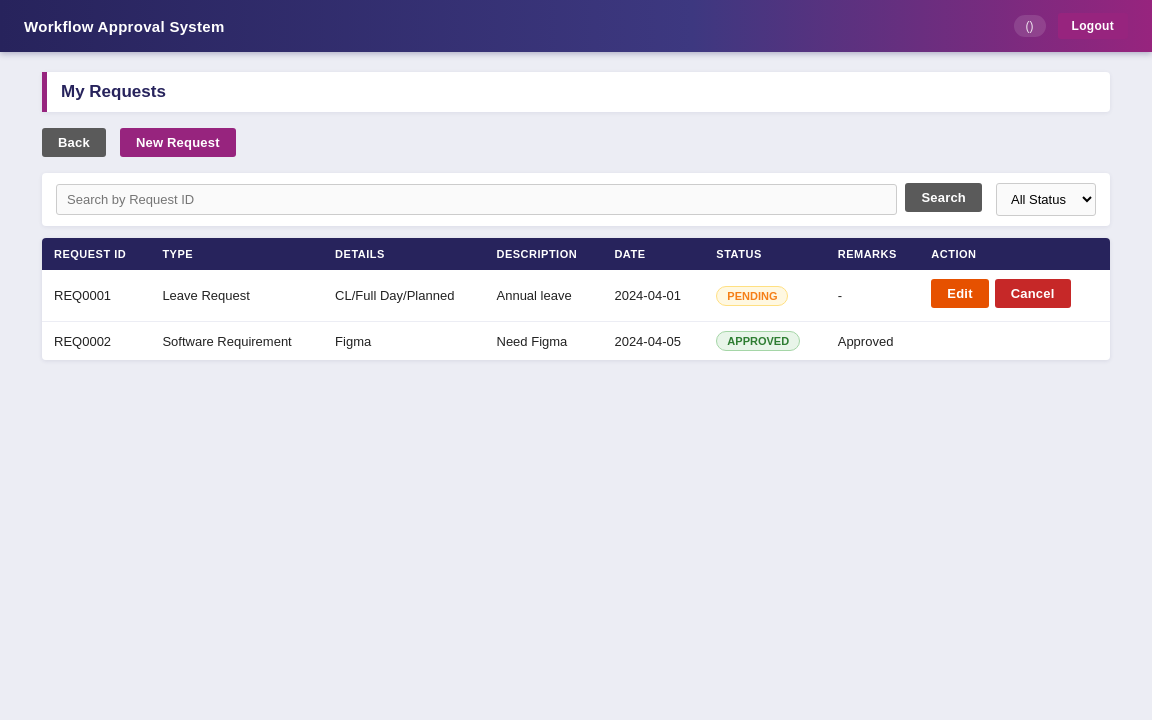
Scenario: EmployeeRequests › opens edit modal when Edit is clicked
This screenshot has width=1152, height=720.
Check: the text "REQ0001" is shown, box [42,270,150,322]
Click the button "Edit" at {"x": 960, "y": 294}, box [931,279,989,308]
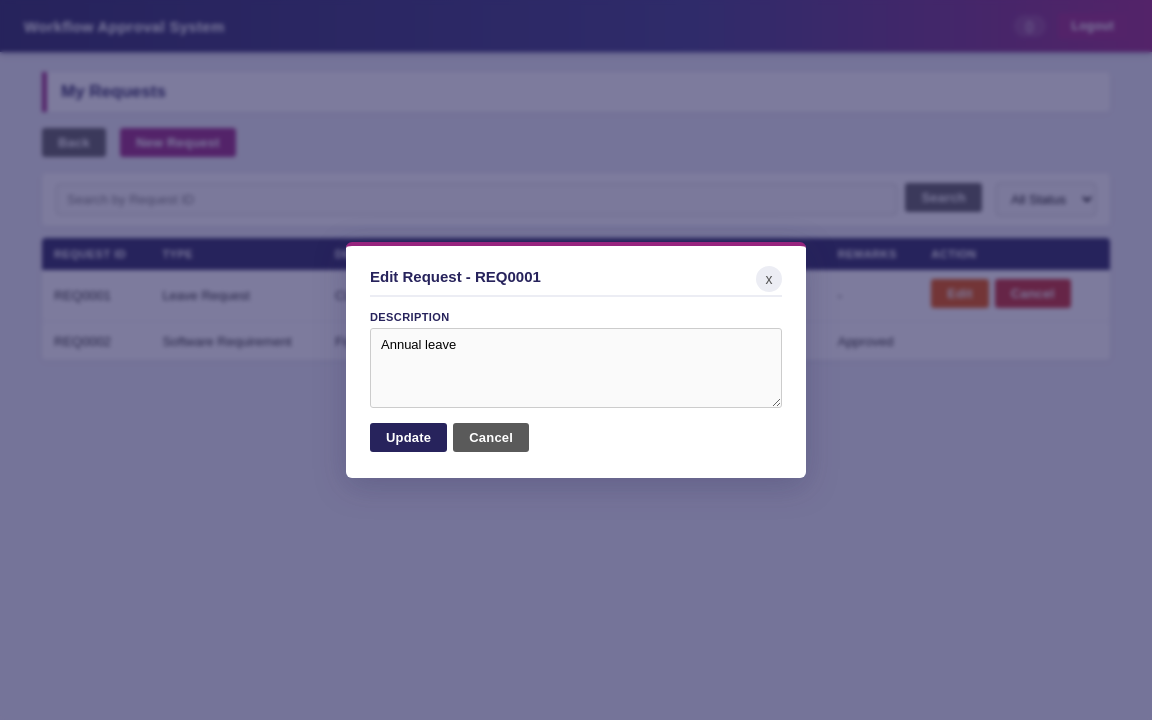
Check: the heading "Edit Request - REQ0001" is shown, box [370,268,782,297]
